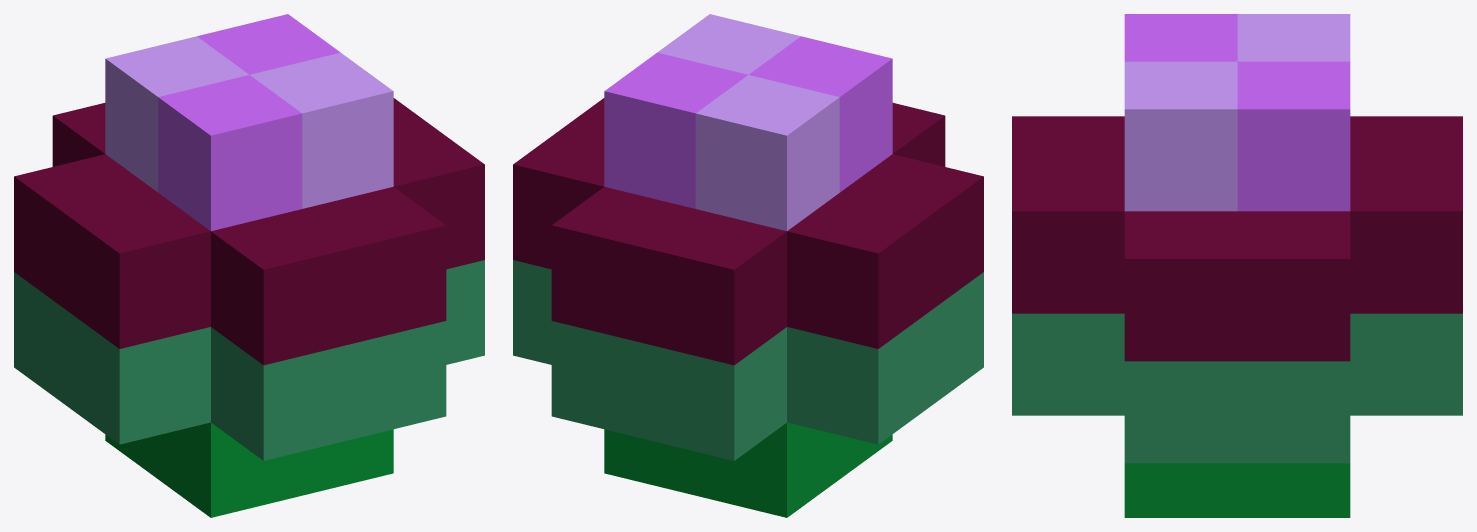
Rendered from Boss_Boss_Suculentas_fase_1.obj.
3 views of the same model, side by side, from view 1: azimuth 30°, elevation 25°; view 2: azimuth 150°, elevation 25°; view 3: azimuth 270°, elevation 25° (orthographic). The views are drawn at different scales.
Parts seen in each view (by area): view 1: Boss_Boss_Suculentas_fase_1; view 2: Boss_Boss_Suculentas_fase_1; view 3: Boss_Boss_Suculentas_fase_1.
Boxes of the visible parts, <box> form: Boss_Boss_Suculentas_fase_1: <box>14,14,484,517</box>; Boss_Boss_Suculentas_fase_1: <box>513,14,983,517</box>; Boss_Boss_Suculentas_fase_1: <box>1012,14,1462,517</box>.
Size of the model in its own units: 4 by 4 by 4.
1 material, 1 textured.
